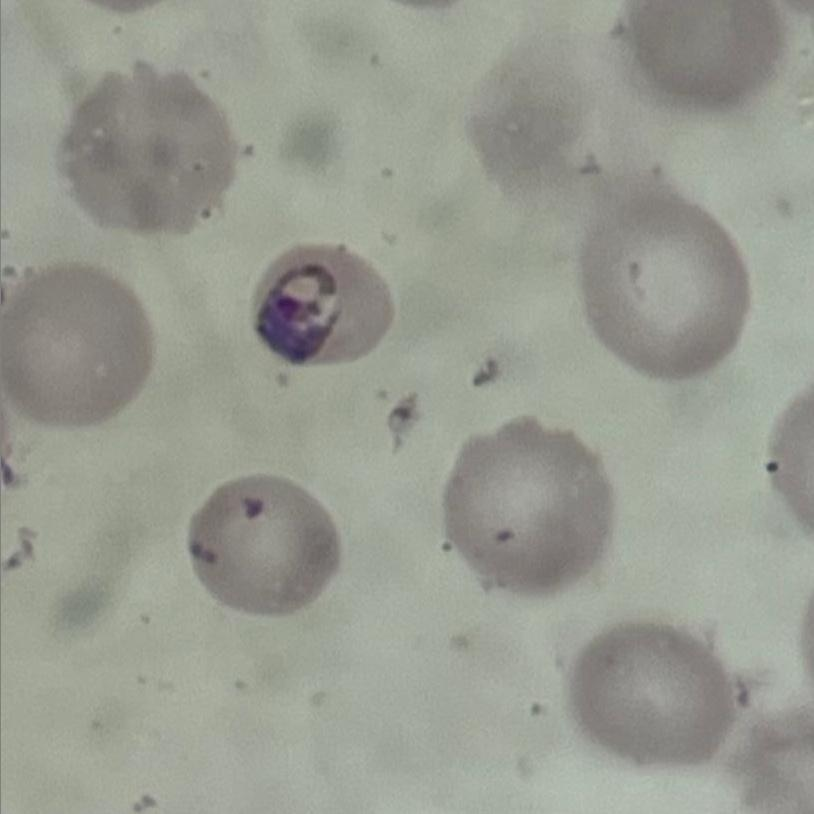Infected: (248, 242, 398, 367)
Uninfected: (443, 415, 615, 597), (582, 202, 751, 381), (62, 60, 231, 235), (0, 265, 149, 429), (570, 622, 735, 761), (188, 472, 345, 616), (633, 0, 779, 105)
